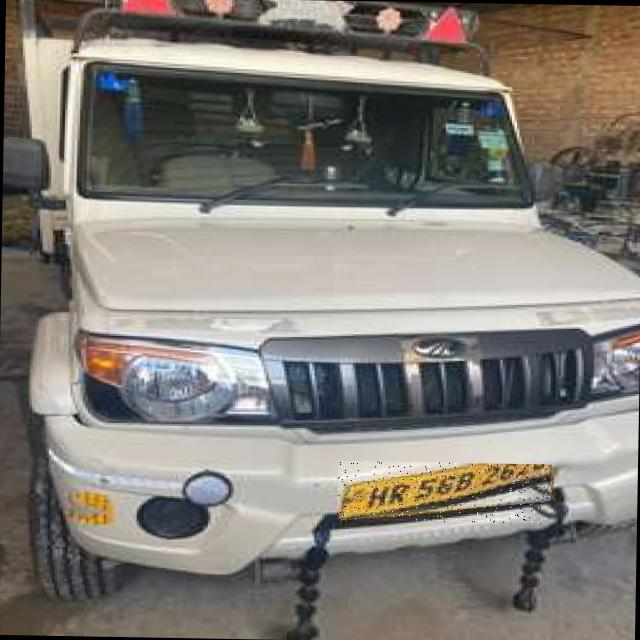Plate: (338, 461, 553, 524)
